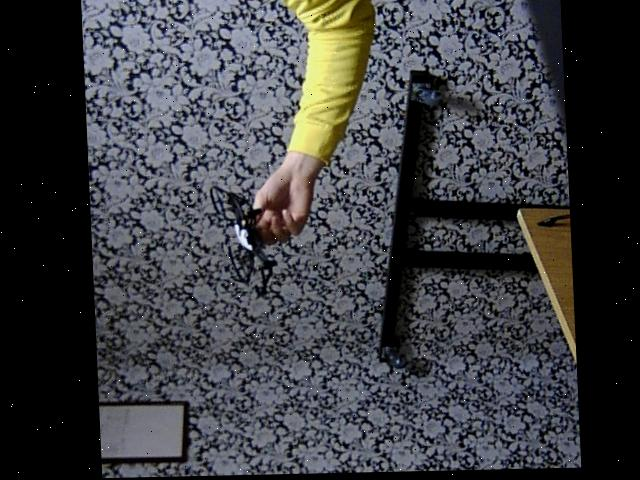drone: (203, 180, 290, 304)
